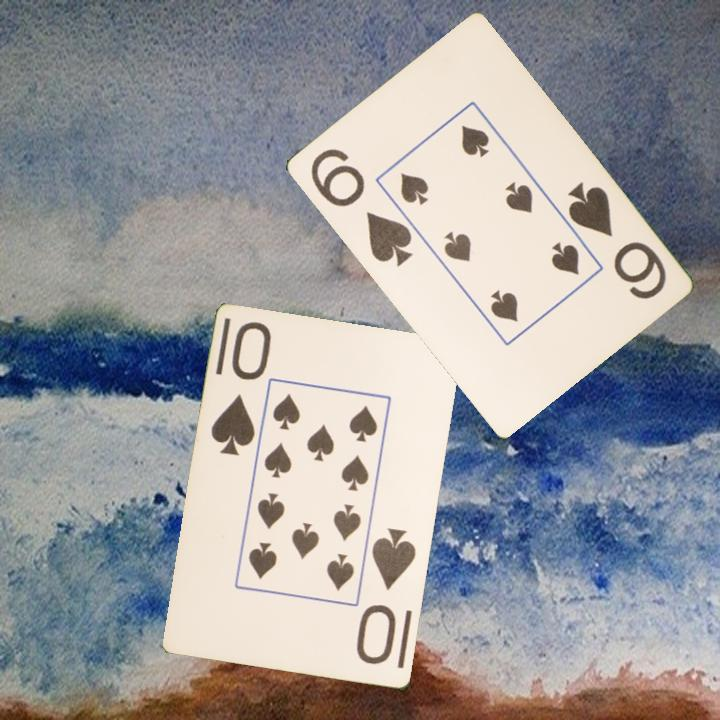10s: (353, 525, 420, 668), (207, 318, 274, 460)
6s: (306, 144, 415, 270), (563, 178, 669, 303)
